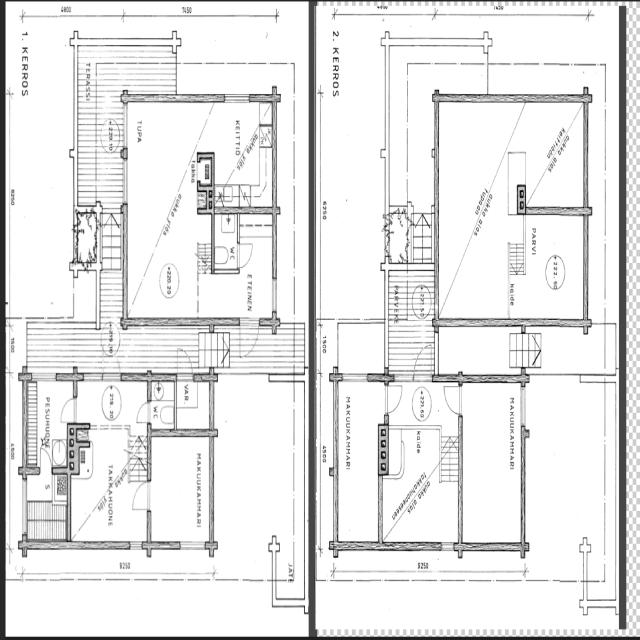door: (213, 210, 239, 271), (412, 341, 434, 380), (442, 378, 464, 416), (240, 318, 260, 356), (384, 379, 404, 414), (131, 479, 151, 512), (176, 346, 194, 380), (60, 394, 77, 424), (237, 239, 254, 268), (135, 398, 151, 424), (38, 443, 52, 471), (100, 206, 112, 228), (214, 192, 222, 210)
window: (517, 382, 529, 432), (340, 370, 370, 384), (223, 91, 252, 105), (178, 537, 206, 551), (270, 274, 278, 314), (438, 538, 456, 552), (33, 372, 58, 382), (81, 371, 103, 381), (128, 538, 144, 550)
zone: (458, 379, 524, 550), (68, 422, 146, 546), (381, 426, 459, 545), (334, 378, 384, 546), (515, 212, 587, 322), (522, 96, 588, 212), (148, 433, 213, 545), (208, 98, 274, 205), (25, 377, 74, 468), (25, 470, 69, 542), (175, 377, 211, 432), (214, 209, 238, 272), (149, 378, 175, 432), (387, 208, 410, 266), (75, 208, 99, 263), (73, 269, 98, 321), (198, 154, 214, 185), (198, 184, 214, 213)
